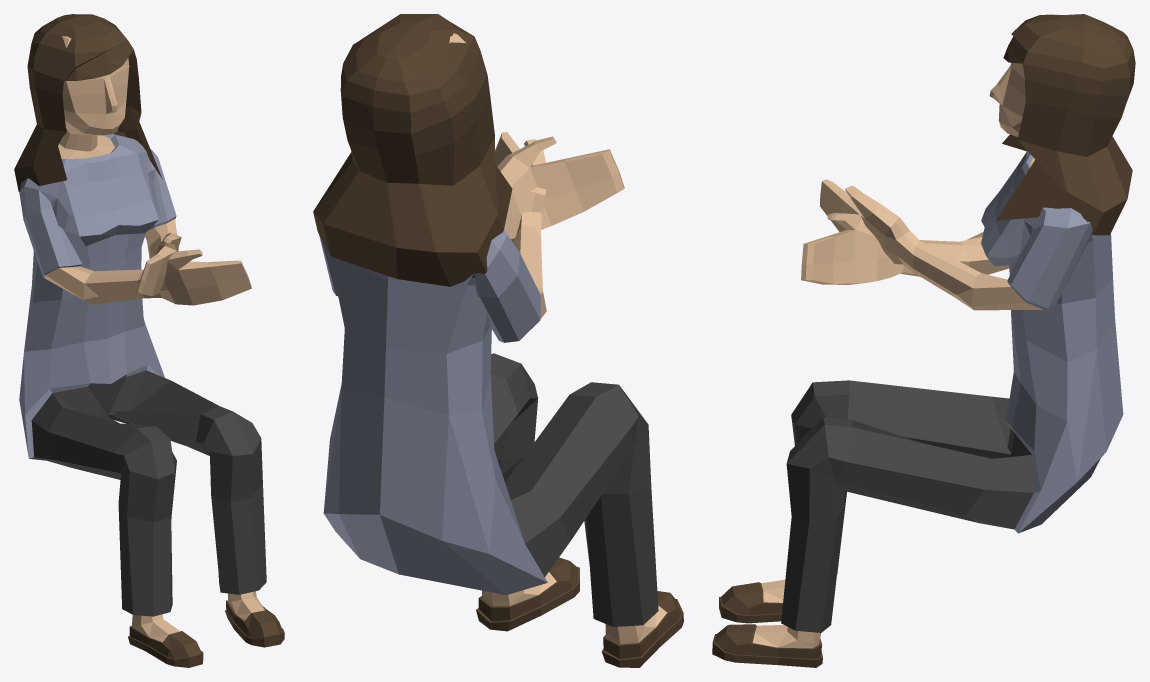
File: Female_Crowd_SittingClapping.glb
3 views of the same model, side by side, from view 1: azimuth 30°, elevation 25°; view 2: azimuth 150°, elevation 25°; view 3: azimuth 270°, elevation 25° (orthographic). The views are drawn at different scales.
Visible parts, largest first — view 1: Female_Crowd_SittingClapping; view 2: Female_Crowd_SittingClapping; view 3: Female_Crowd_SittingClapping.
Part boxes in pixels (x1,y1,x2,y2): Female_Crowd_SittingClapping: (14,14,284,667); Female_Crowd_SittingClapping: (313,14,683,667); Female_Crowd_SittingClapping: (712,14,1135,667).
Bounding box in the file's own units: 0.393 × 1.29 × 0.8008.
